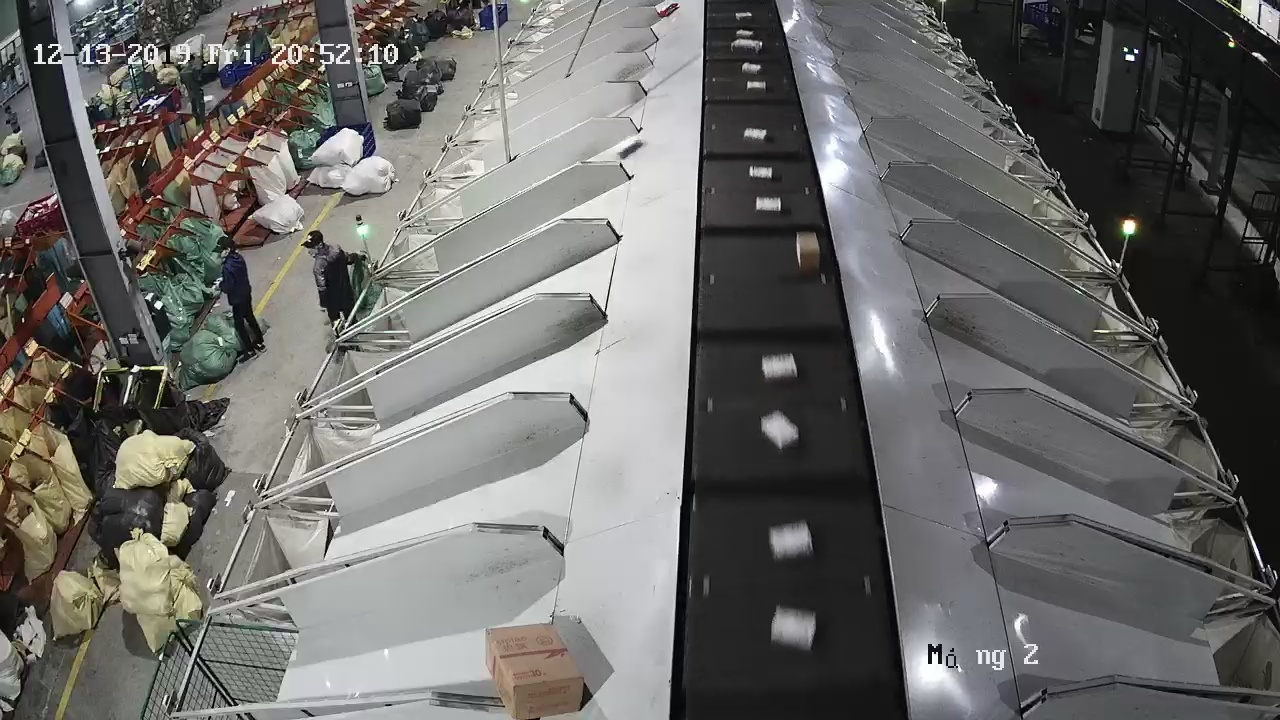parcel: (615, 134, 643, 159)
